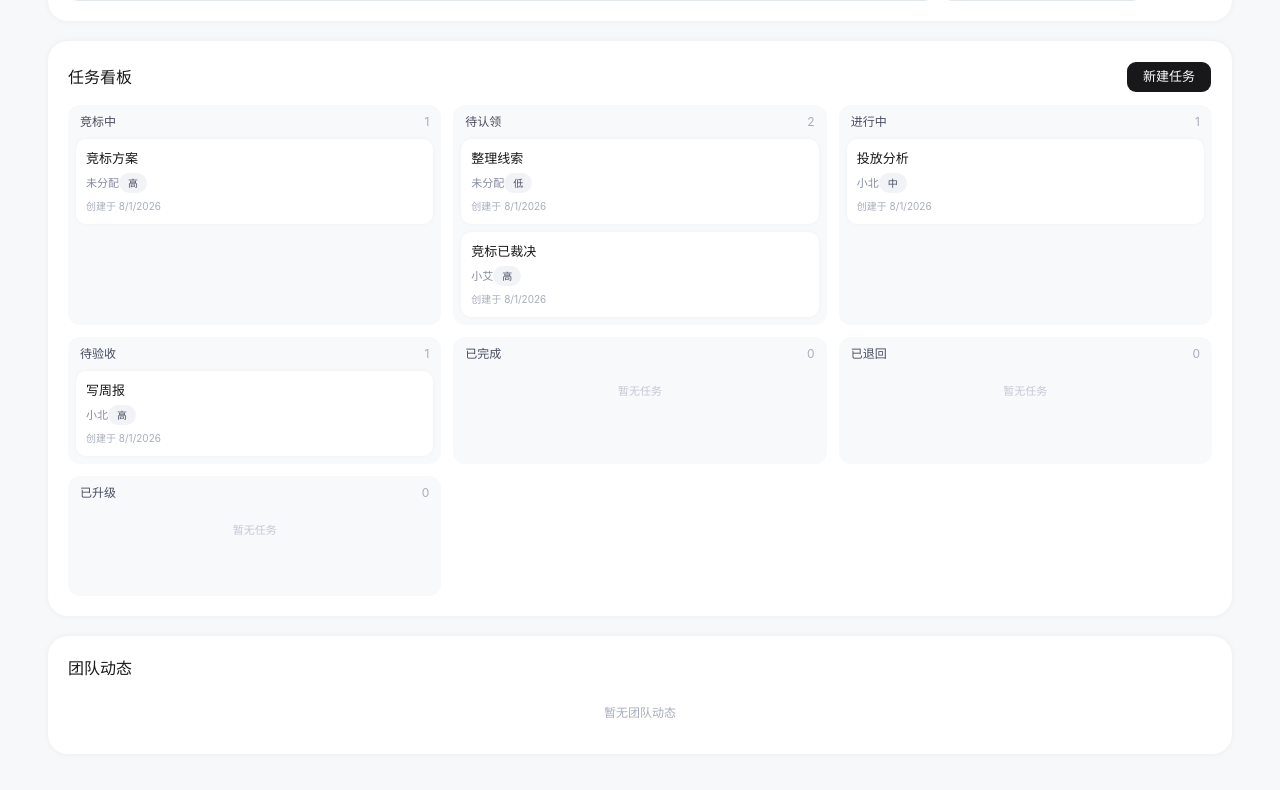
TeamDetailPage › keeps internal execution records inside the task detail
(page scrolled)
Click the text "写周报".
click(106, 390)  # box x1=86 y1=381 x2=125 y2=399
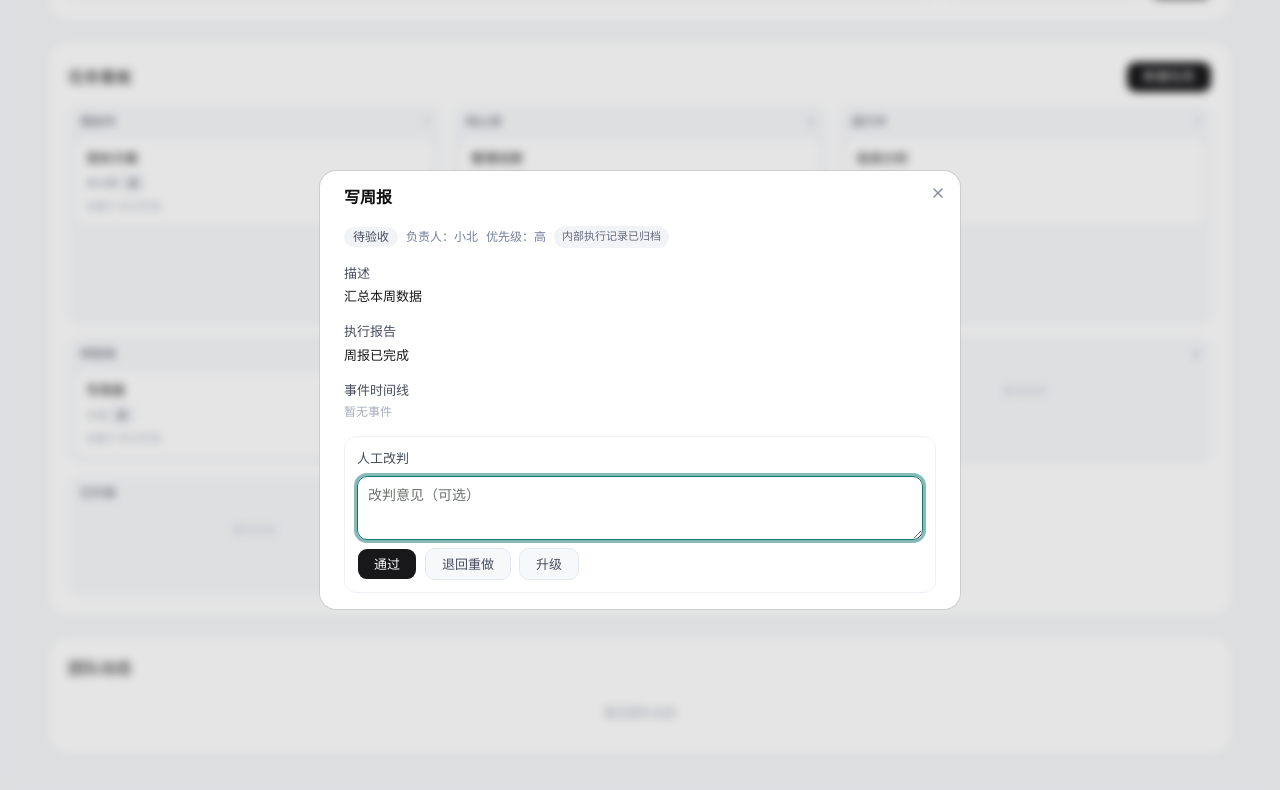
Result: the text "内部执行记录已归档" is shown at x1=554 y1=226 x2=669 y2=248
